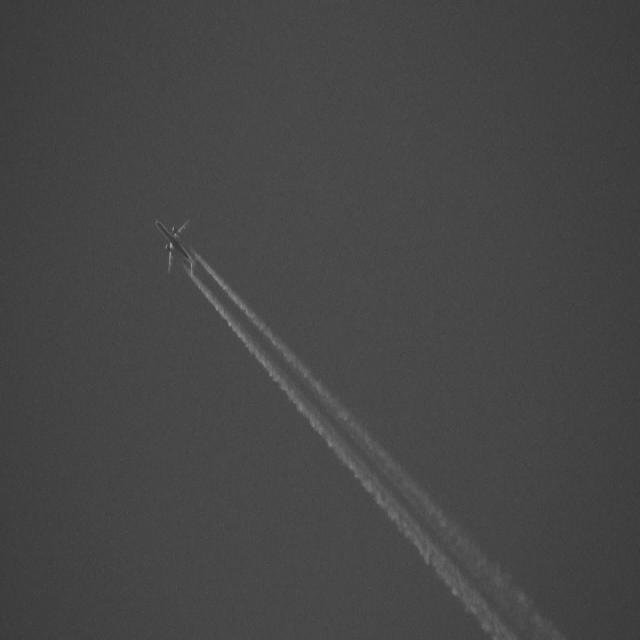aeroplane: (151, 209, 201, 283)
